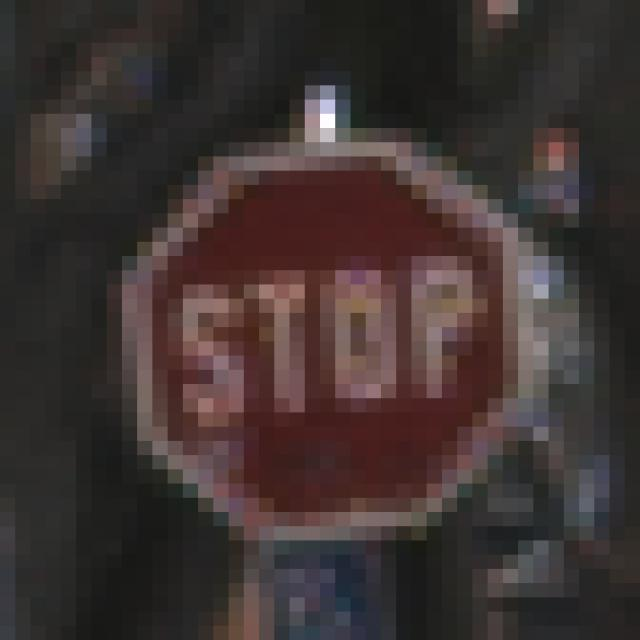STOP: (77, 72, 550, 570)
